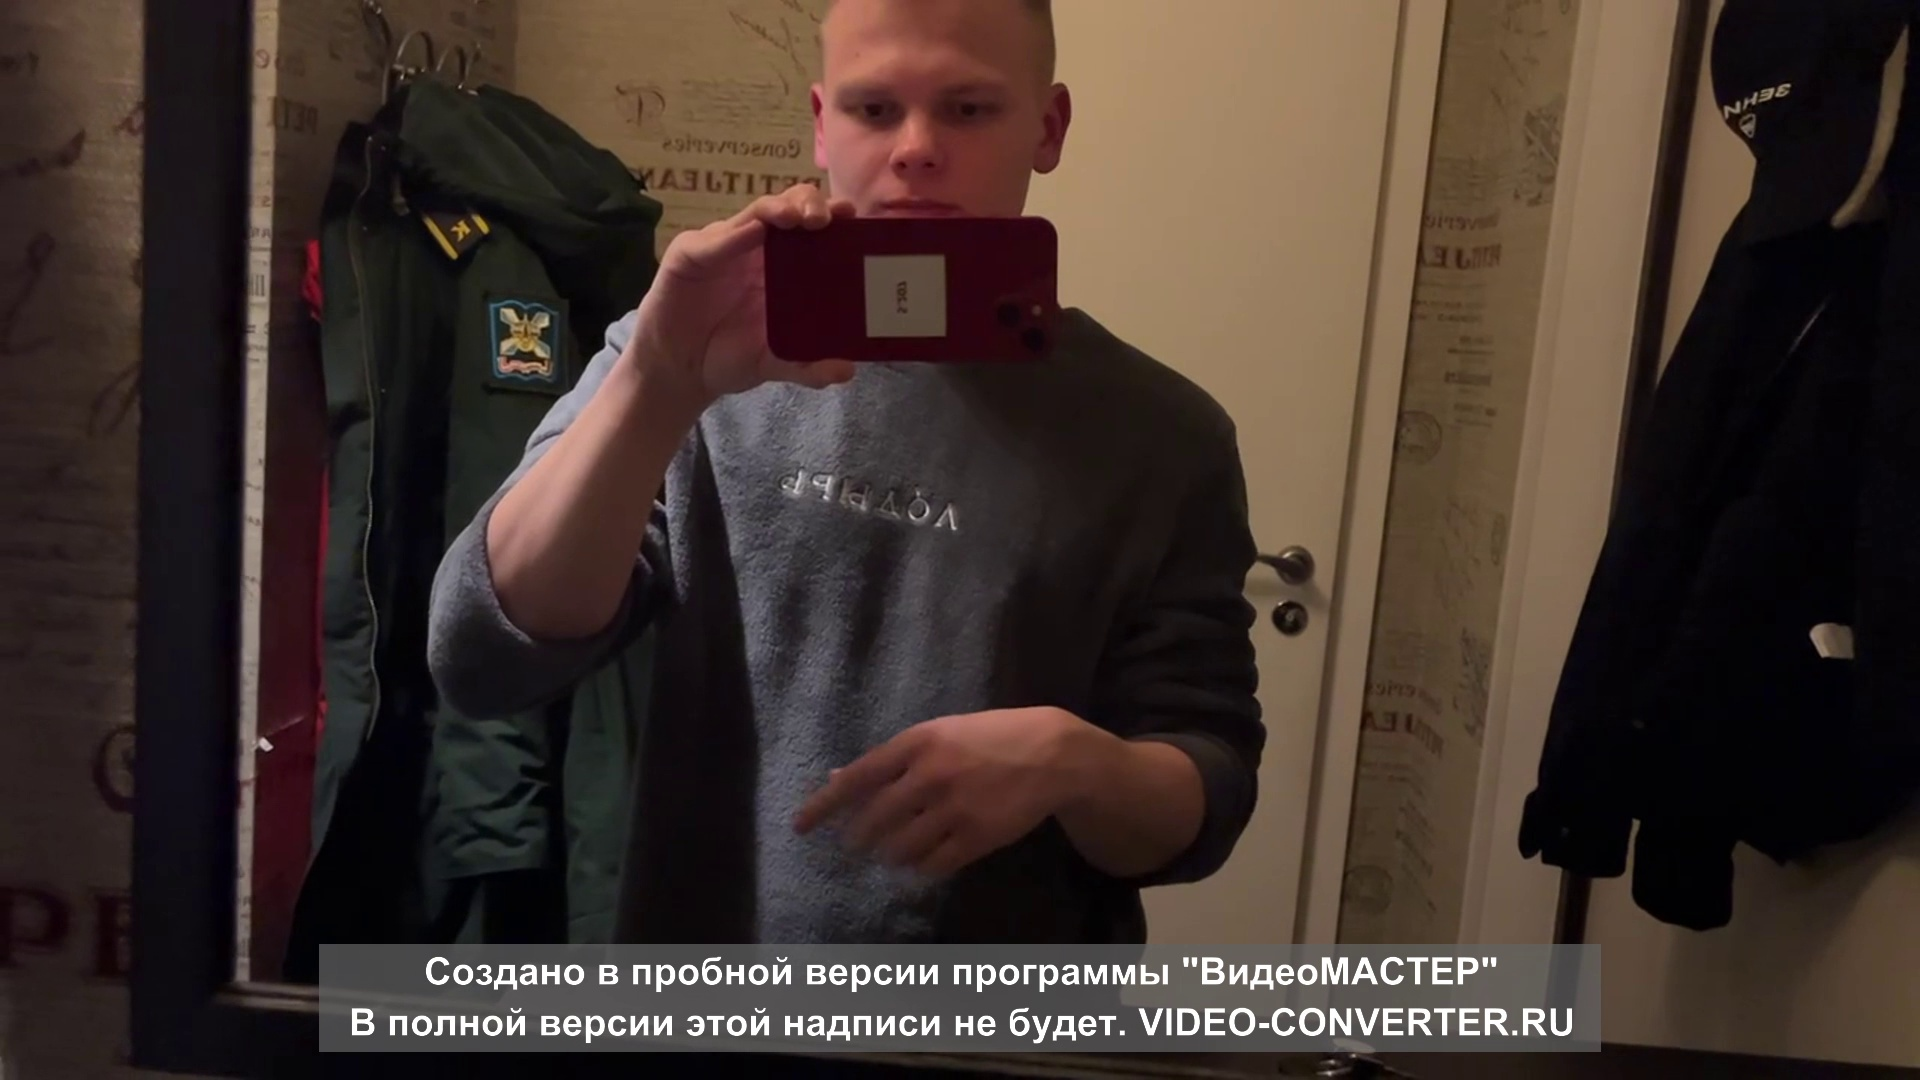Кисть: (793, 705, 1076, 882)
